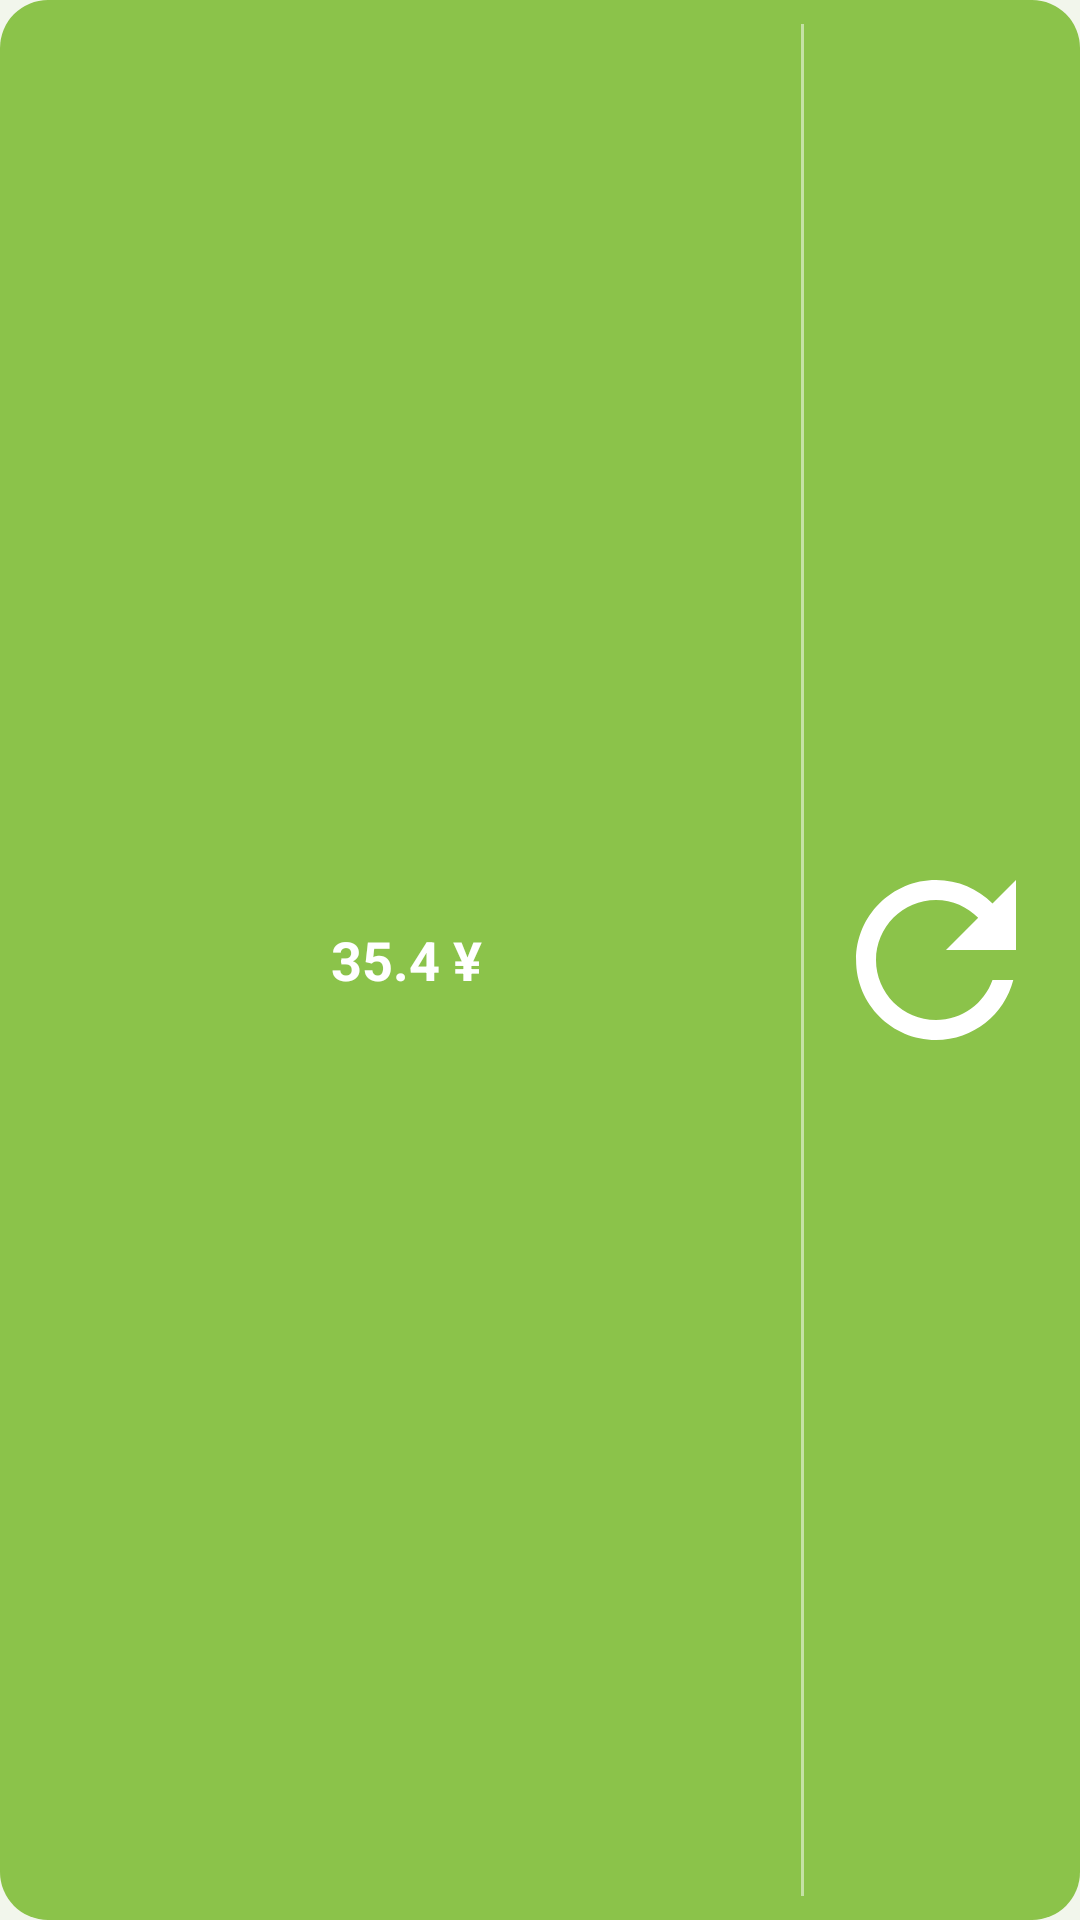

Screen size 1080px×1920px. Icon name, then its box in pixels as (x1, y1, x2, y2):
刷新电量: (856, 880, 1016, 1040)
